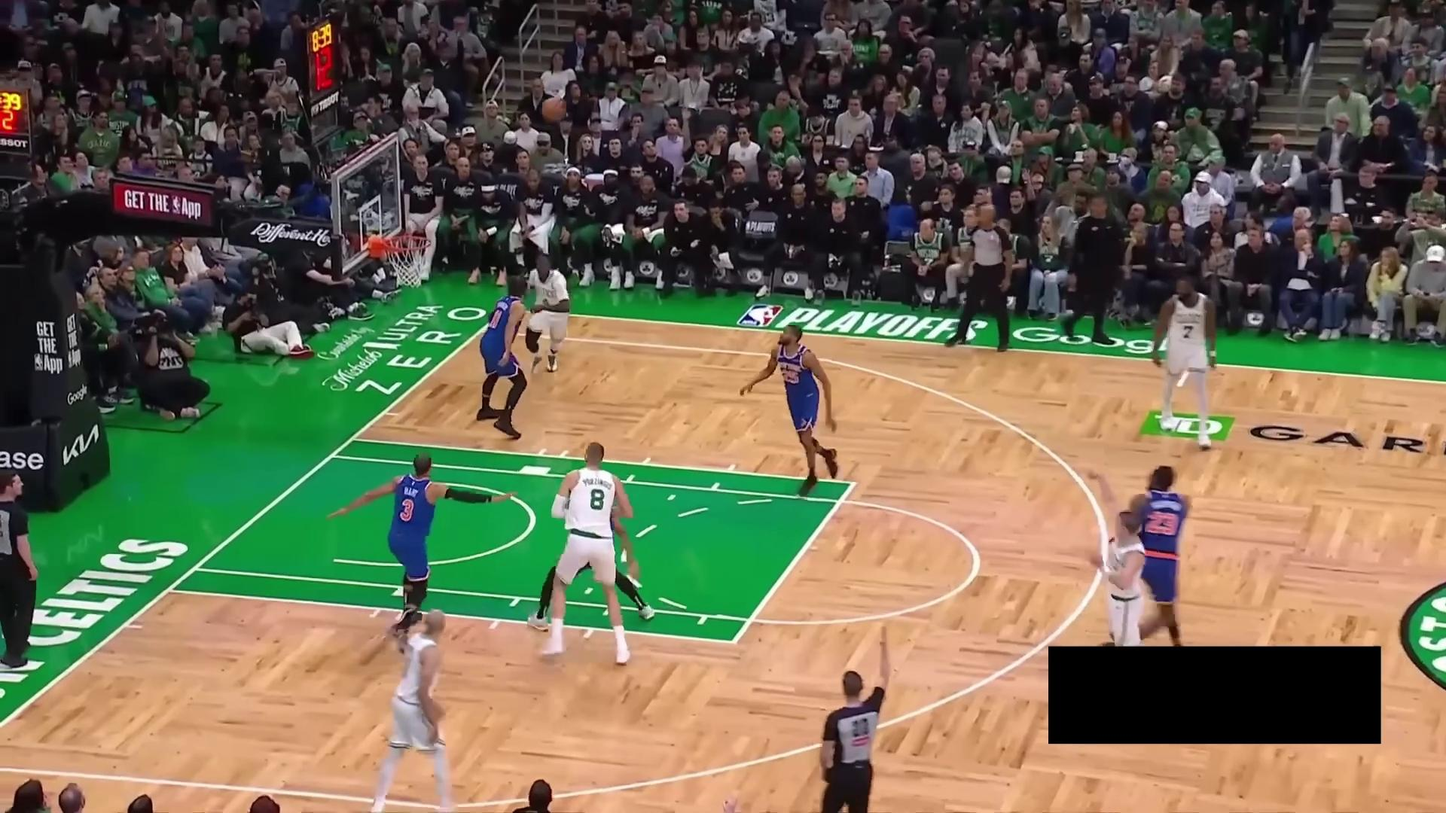ball: (541, 96, 566, 120)
number: (1144, 507, 1181, 540), (398, 497, 416, 523), (590, 488, 608, 511), (781, 368, 800, 385), (488, 308, 503, 328), (1183, 324, 1194, 339)
player: (329, 450, 513, 627), (539, 442, 631, 665), (371, 608, 458, 813), (739, 323, 839, 498), (525, 513, 656, 630), (1128, 462, 1193, 647), (1083, 465, 1149, 647), (1151, 276, 1218, 451), (476, 273, 528, 438), (516, 251, 571, 377)
referee: (814, 618, 898, 813), (946, 195, 1020, 357), (0, 461, 39, 670)
rim: (381, 231, 433, 252)
